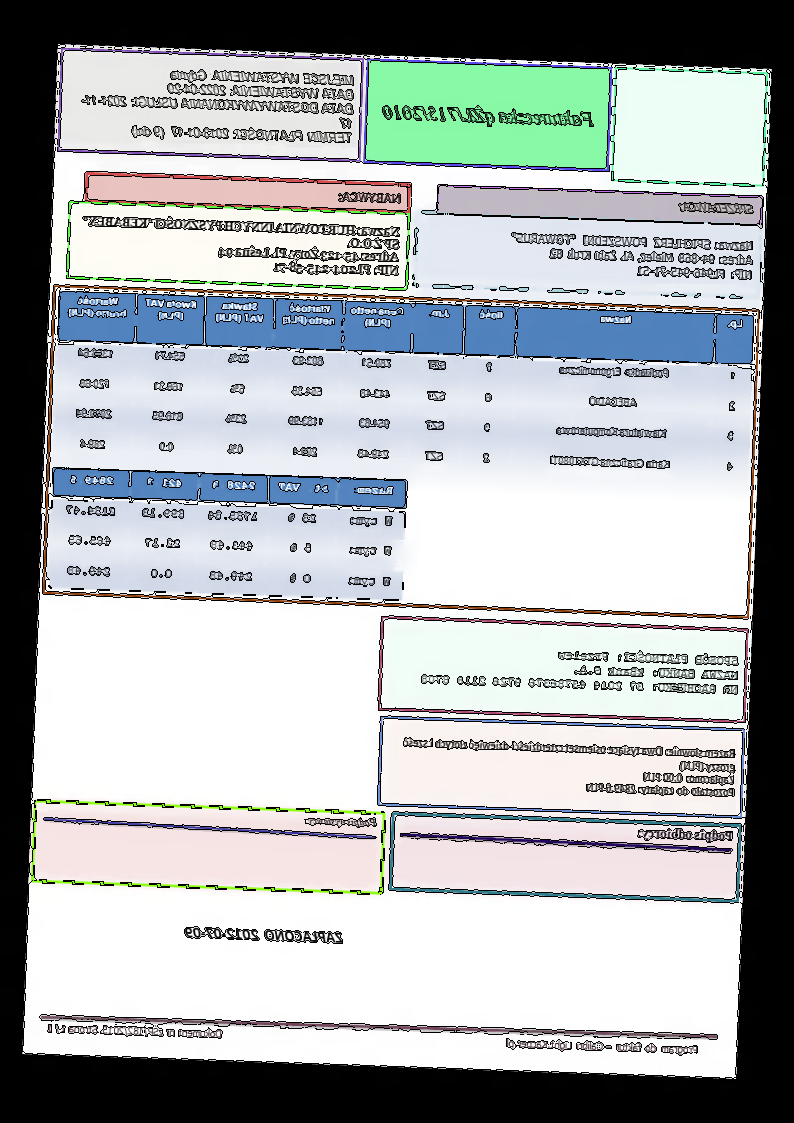Table: (55, 287, 756, 489), (47, 465, 408, 603)
TextBox: (79, 62, 356, 150), (401, 733, 738, 801), (77, 212, 403, 278), (419, 641, 741, 699), (508, 226, 757, 284), (381, 99, 599, 131), (505, 1034, 702, 1059), (45, 1019, 224, 1042), (182, 922, 345, 946), (637, 822, 736, 846), (304, 810, 380, 830), (679, 197, 756, 216), (338, 188, 405, 207)
